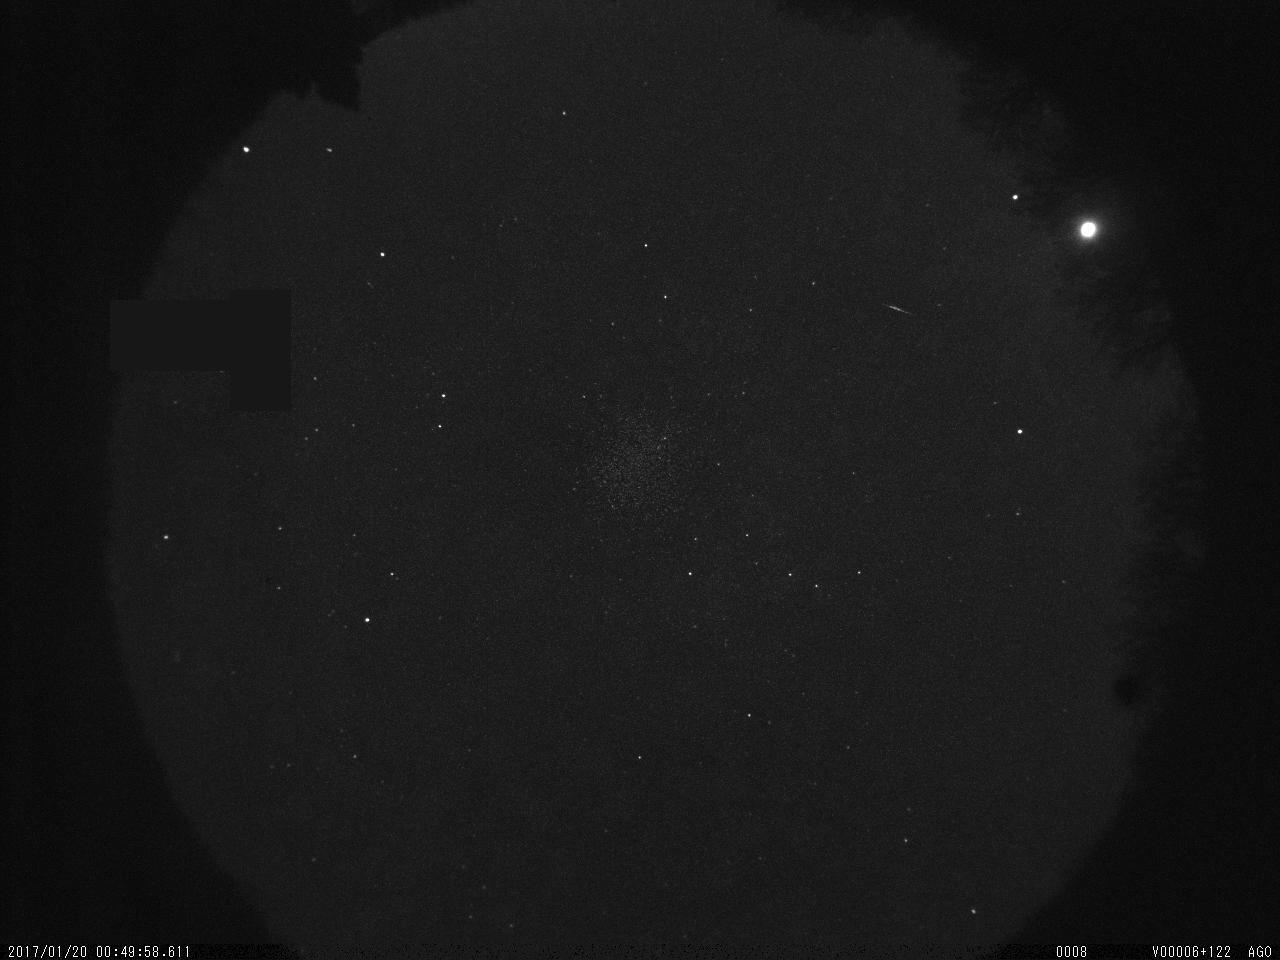meteor: (873, 293, 919, 322)
